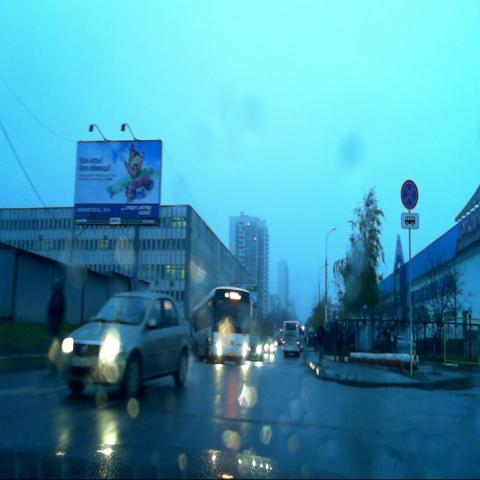8_4_4: (400, 214, 420, 229)
